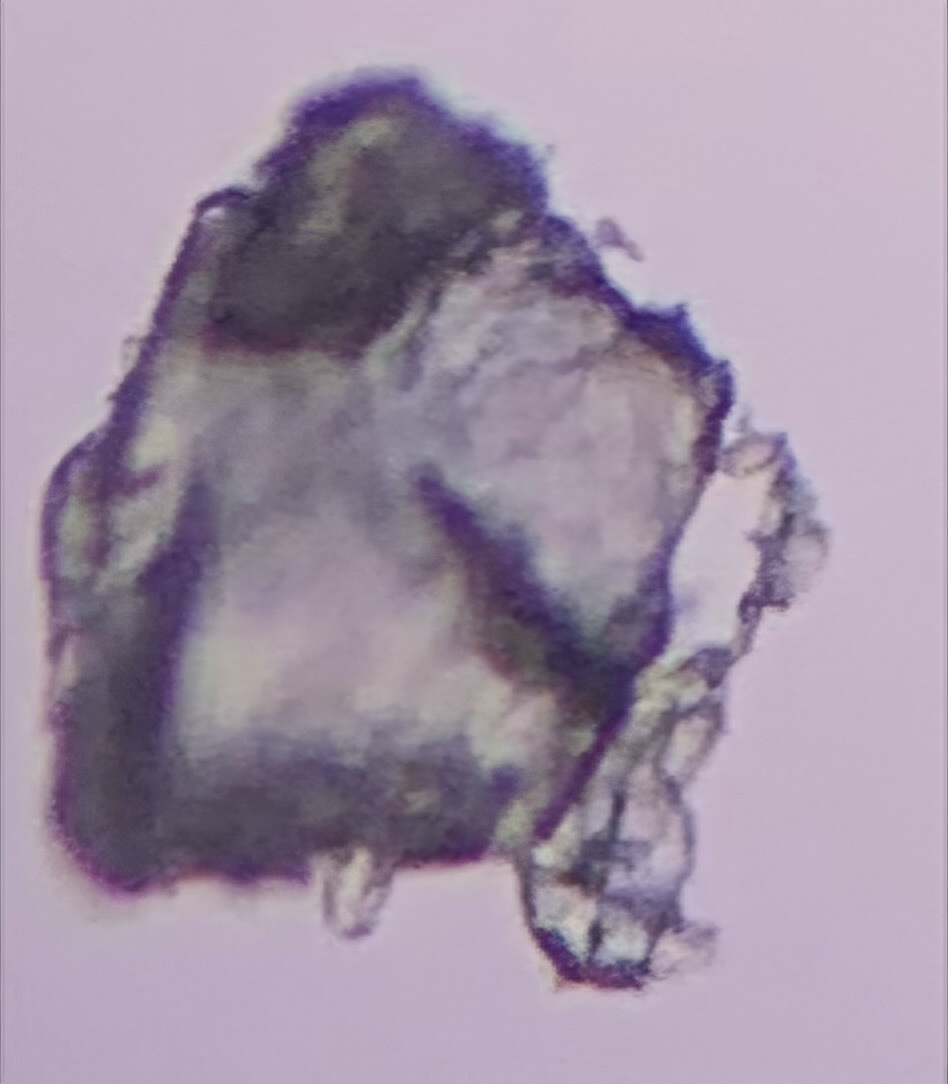microplastic: (41, 65, 826, 992)
